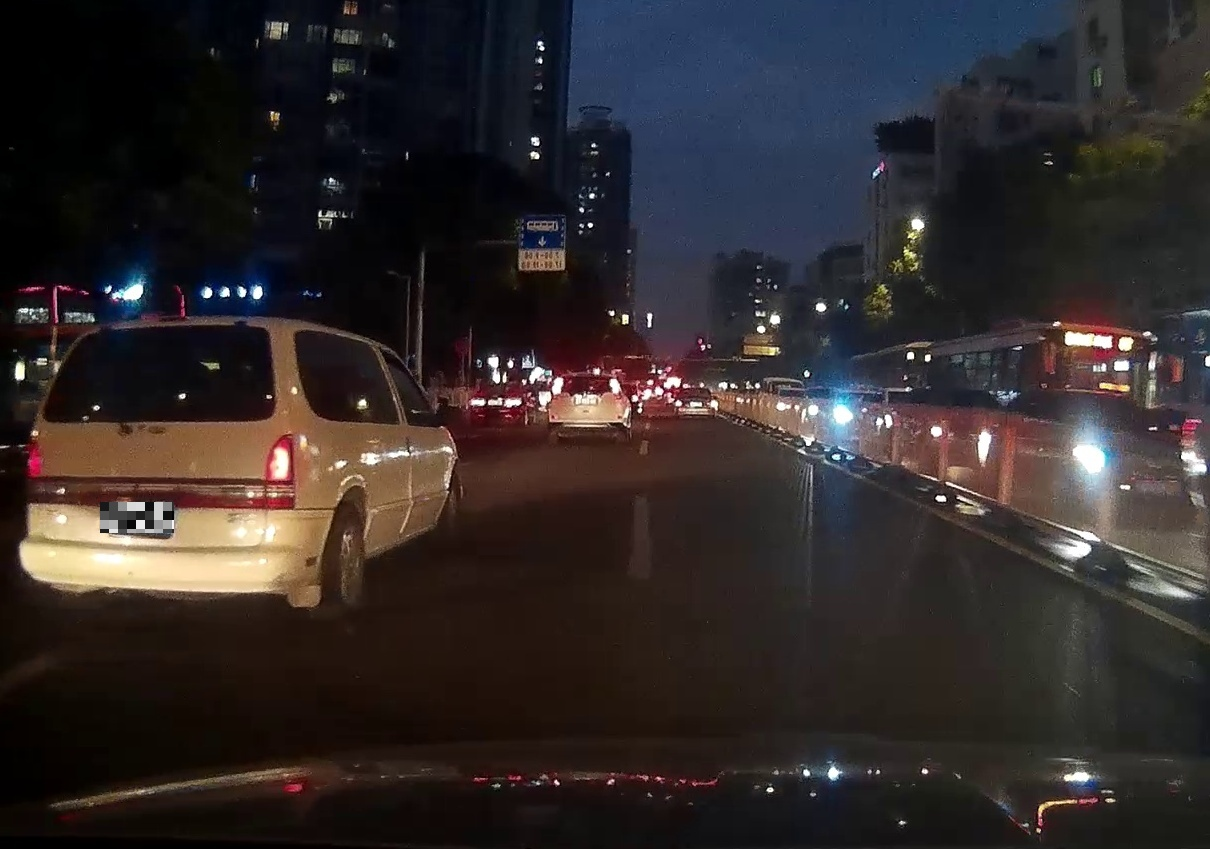L_light: (25, 436, 45, 503), (551, 377, 563, 398)
R_light: (265, 431, 294, 509), (610, 378, 622, 399)
T_light: (158, 325, 191, 335), (579, 375, 593, 380)
night-no: (546, 372, 629, 441)
night-right: (19, 316, 295, 618)
plate_1: (100, 502, 174, 533)
